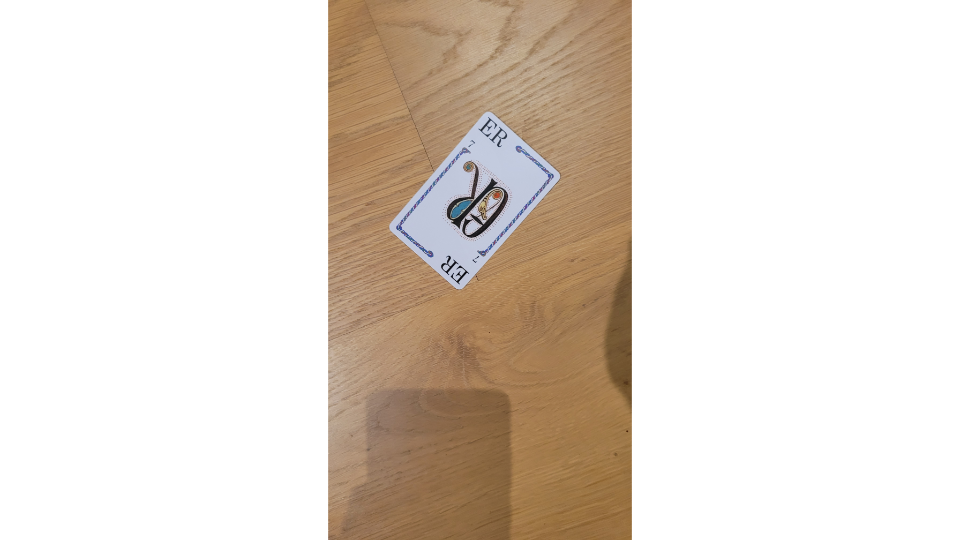ER: (386, 110, 564, 292)
